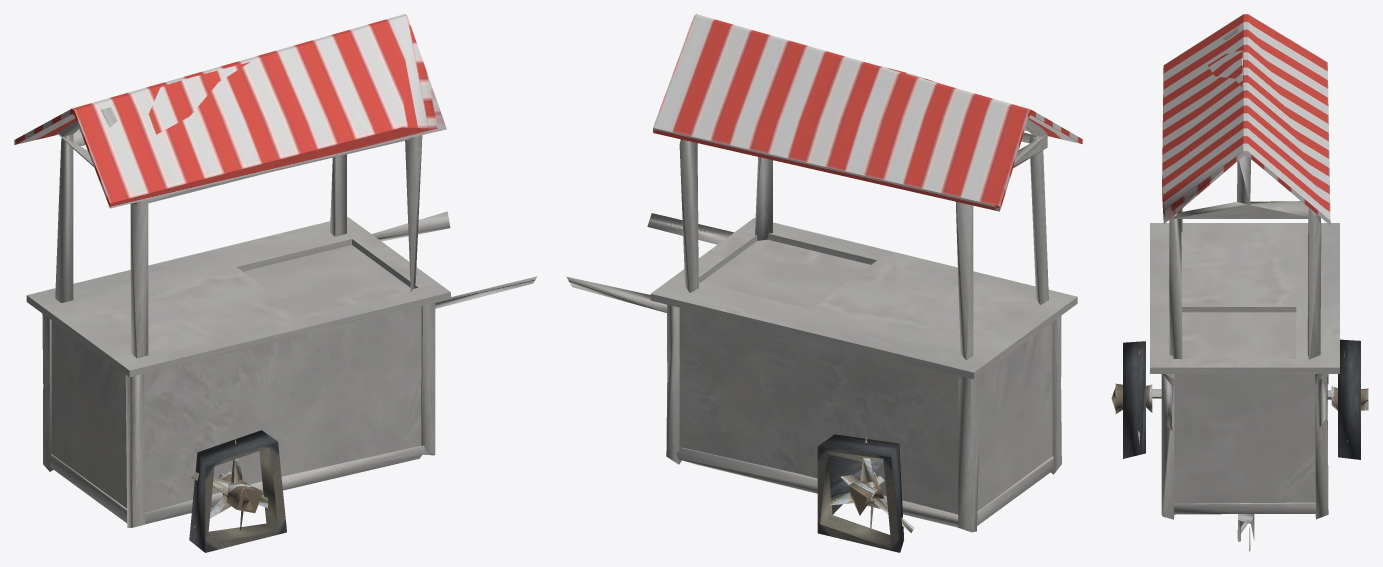
Rendered from xe-hu-tieu.glb.
3 renders of one model, left to right at view 1: azimuth 30°, elevation 25°; view 2: azimuth 150°, elevation 25°; view 3: azimuth 270°, elevation 25°, orthographic. The views are drawn at different scales.
Visible parts, largest first — view 1: Cube_Metal_0, Plane_Roof_0, Cube.004__0, Cylinder.002_VoBanhXe_0, Cylinder.002_Loixe_0, Cylinder.002_CamXe_0; view 2: Cube_Metal_0, Plane_Roof_0, Cube.004__0, Cylinder.002_VoBanhXe_0, Cylinder.002_CamXe_0, Cylinder.002_Loixe_0; view 3: Cube_Metal_0, Plane_Roof_0, Cube.004__0, Cylinder.002_VoBanhXe_0, Cylinder.002_Loixe_0.
Boxes of the visible parts, x1,y1,x2,y2 form: Cube_Metal_0: (26, 129, 537, 512); Plane_Roof_0: (14, 14, 446, 208); Cube.004__0: (42, 107, 435, 527); Cylinder.002_VoBanhXe_0: (189, 430, 286, 552); Cylinder.002_Loixe_0: (219, 471, 262, 513); Cylinder.002_CamXe_0: (191, 438, 268, 530); Cube_Metal_0: (566, 132, 1077, 514); Plane_Roof_0: (653, 14, 1082, 211); Cube.004__0: (666, 119, 1061, 532); Cylinder.002_VoBanhXe_0: (817, 434, 904, 552); Cylinder.002_CamXe_0: (828, 437, 914, 532); Cylinder.002_Loixe_0: (849, 472, 884, 515); Cube_Metal_0: (1150, 156, 1339, 503); Plane_Roof_0: (1162, 14, 1330, 225); Cube.004__0: (1150, 27, 1331, 551); Cylinder.002_VoBanhXe_0: (1123, 339, 1360, 459); Cylinder.002_Loixe_0: (1111, 383, 1368, 413).
Size of the model in its own units: 1 by 0.9754 by 0.5551.
Materials: 6 (6 with a texture image).
